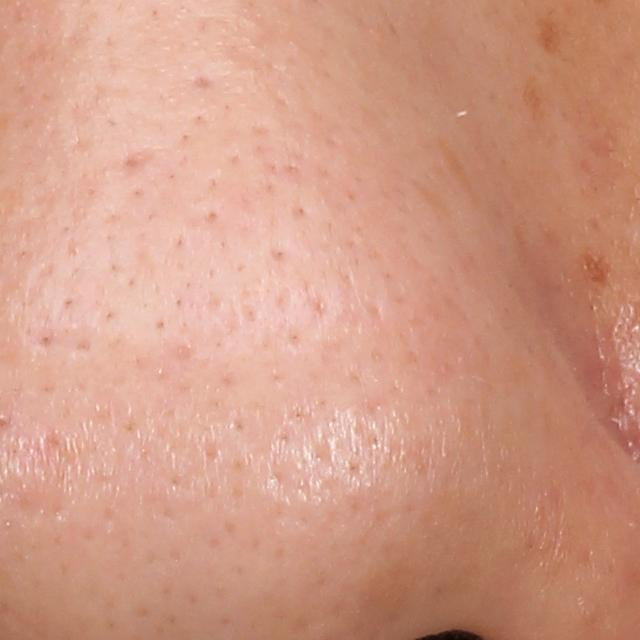atrophic_scar: (120, 146, 157, 179)
melasma: (531, 17, 563, 56), (586, 249, 613, 284)
